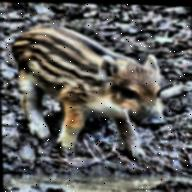boar: (5, 0, 168, 152)
